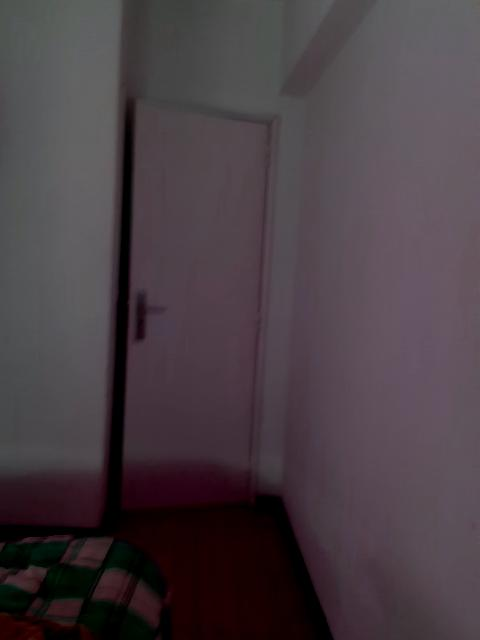closed_door: (108, 93, 281, 508)
